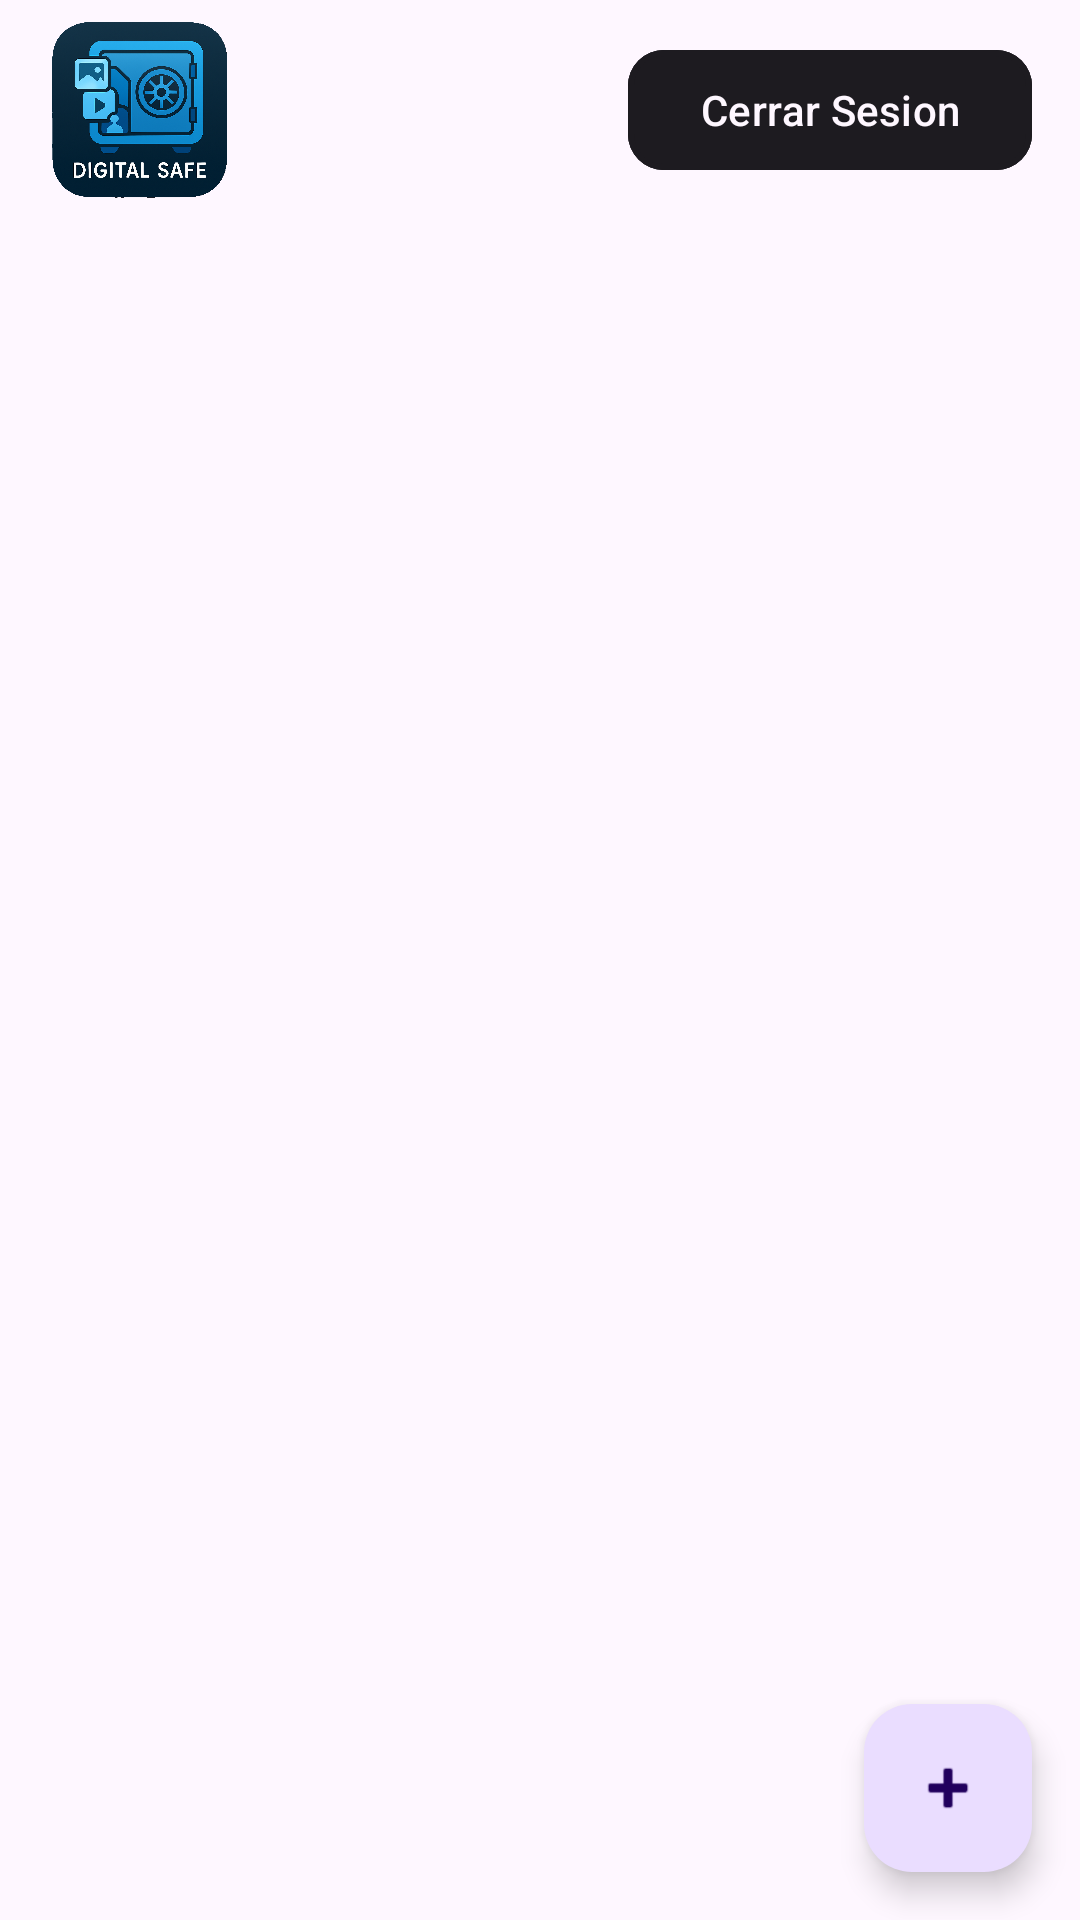

Named icons in this screenshot (1080×1920) and their centers, [x,y]:
agregar: [948,1788]
